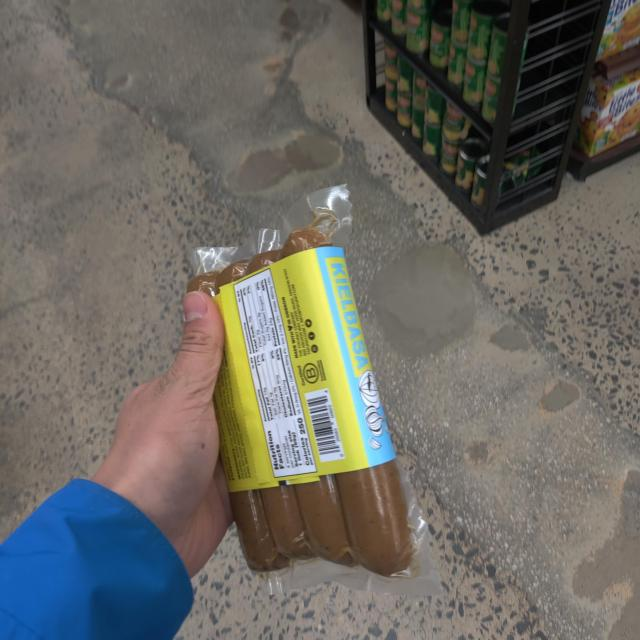Meat: (150, 207, 442, 609)
